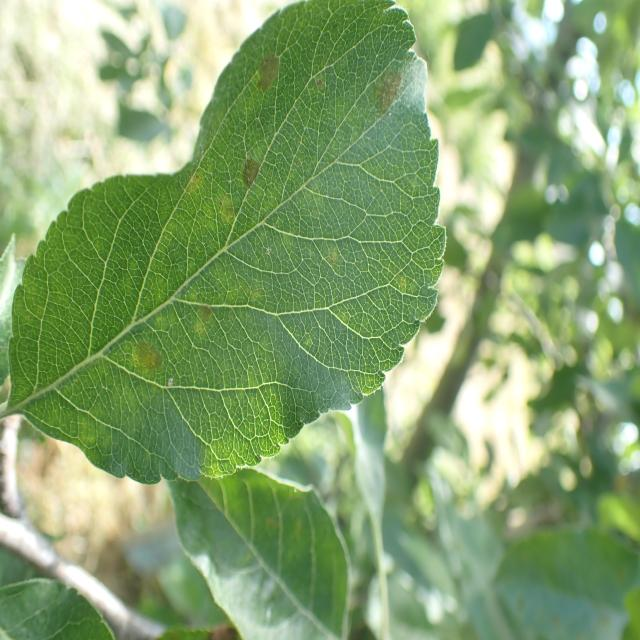scab: (108, 288, 238, 377), (228, 44, 290, 109), (366, 41, 402, 150), (231, 148, 269, 206)
